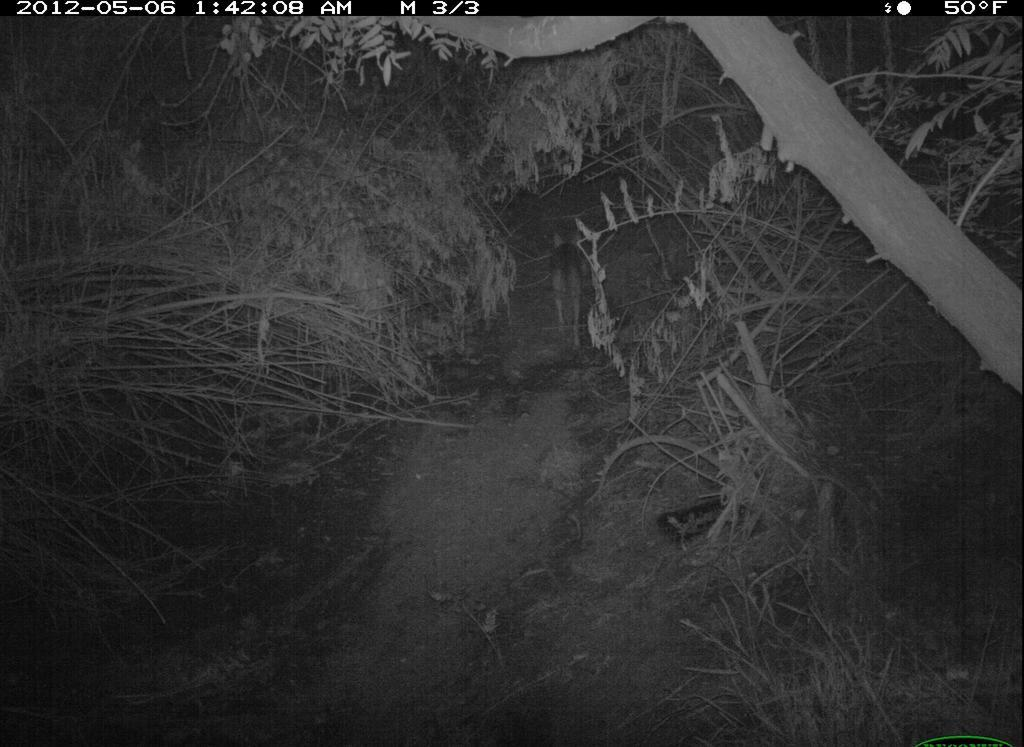coyote: (543, 218, 609, 368)
